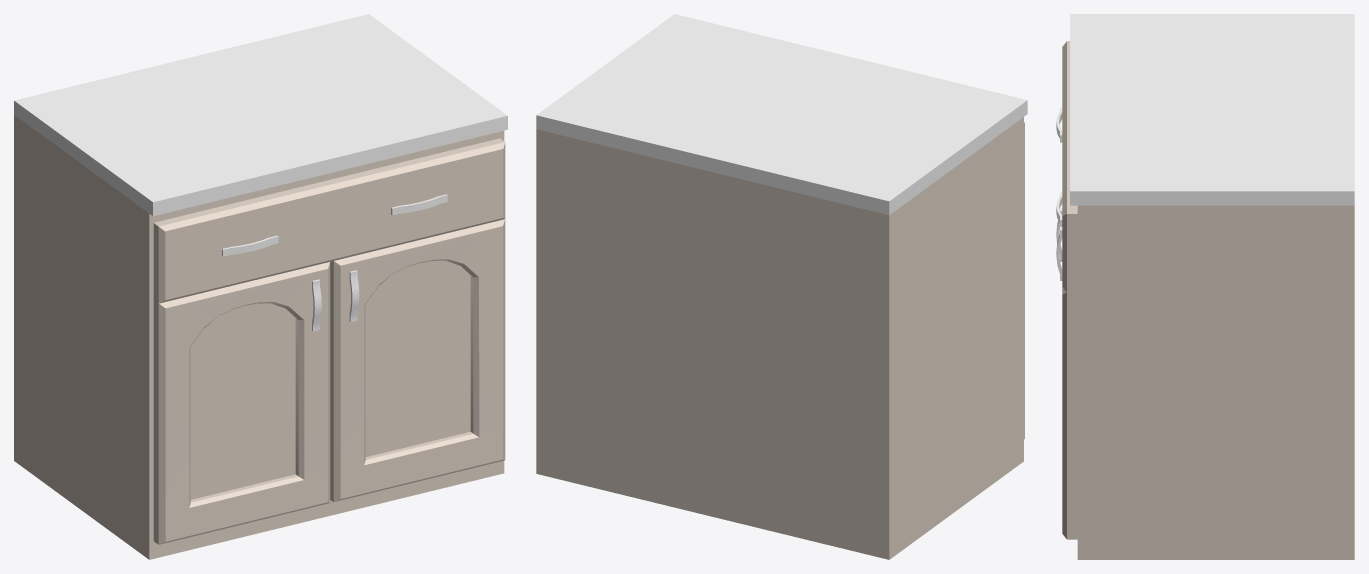
3 renders of one model, left to right at view 1: azimuth 30°, elevation 25°; view 2: azimuth 150°, elevation 25°; view 3: azimuth 270°, elevation 25°, orthographic. The views are drawn at different scales.
Visible parts, largest first — view 1: Counter_02_02, Counter_02_02.001, polySurface13, polySurface18, polySurface15, polySurface17; view 2: Counter_02_02, Counter_02_02.001; view 3: Counter_02_02, Counter_02_02.001, polySurface18, polySurface15, polySurface17.
Part boxes in pixels (bbox=[...]): Counter_02_02: bbox=[14, 115, 504, 559]; Counter_02_02.001: bbox=[14, 14, 507, 216]; polySurface13: bbox=[153, 262, 330, 544]; polySurface18: bbox=[330, 219, 505, 502]; polySurface15: bbox=[153, 138, 505, 303]; polySurface17: bbox=[222, 194, 447, 331]; Counter_02_02: bbox=[536, 117, 1023, 559]; Counter_02_02.001: bbox=[536, 14, 1027, 215]; Counter_02_02: bbox=[1077, 205, 1354, 559]; Counter_02_02.001: bbox=[1070, 14, 1354, 205]; polySurface18: bbox=[1062, 287, 1077, 539]; polySurface15: bbox=[1062, 41, 1077, 292]; polySurface17: bbox=[1056, 107, 1062, 280].
Bounding box in the file's own units: 100 × 97.04 × 71.13.
